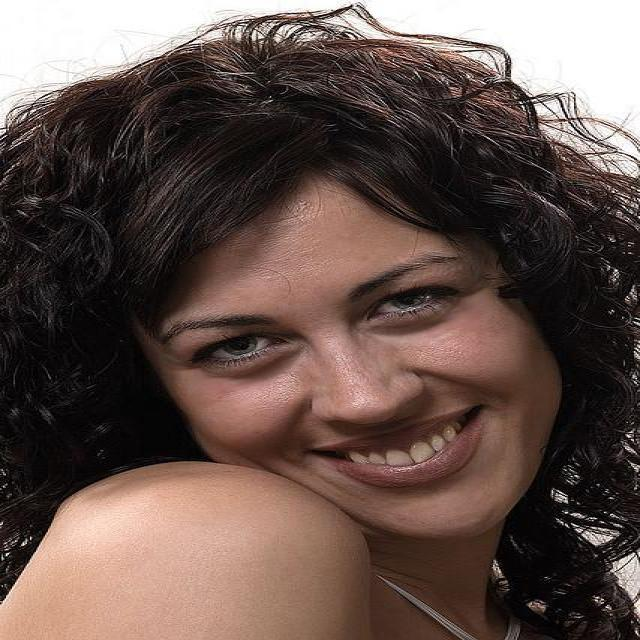Eyebags: (354, 299, 467, 341), (196, 343, 304, 386)
